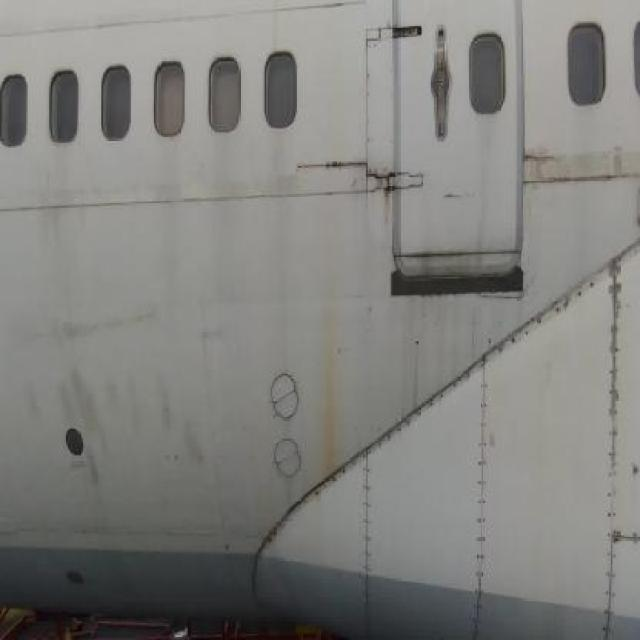Missing-Rivet: (490, 274, 595, 381), (602, 252, 626, 640), (256, 458, 355, 552), (375, 368, 471, 450), (472, 346, 491, 640), (359, 449, 376, 622)
Rust: (312, 253, 348, 482)
Scartch: (14, 359, 206, 510), (31, 297, 166, 352), (525, 135, 630, 194), (193, 313, 230, 359), (260, 0, 285, 49)
